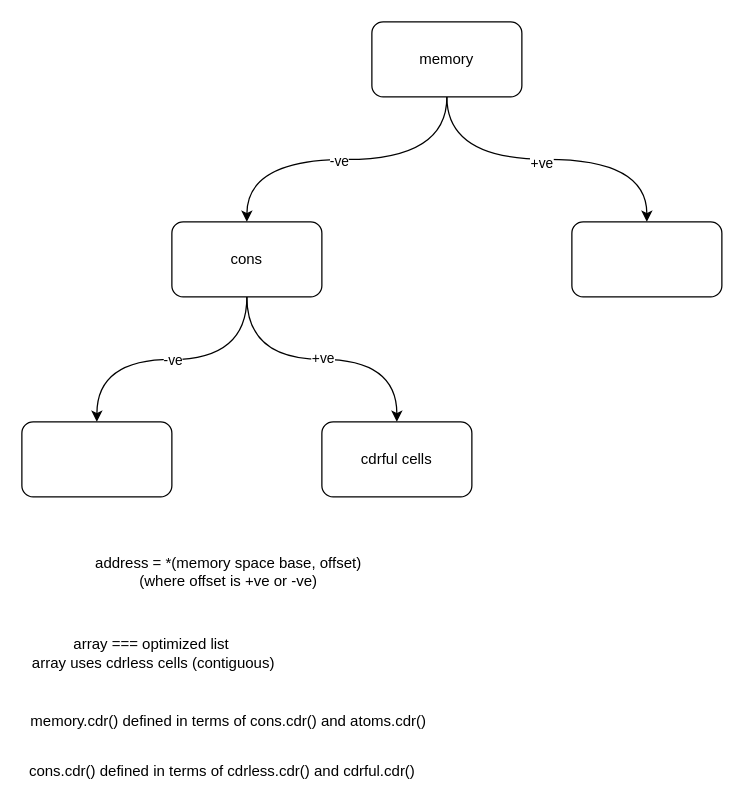
Some shapes in this 744 by 806 pixel diagram are drawn without their labels. The shapes that lost their labels are listed below. From the top down, each one's centre as x and y in pixels, then its label:
At point (646, 259): "atoms".
At point (96, 459): "cdrless cells".
